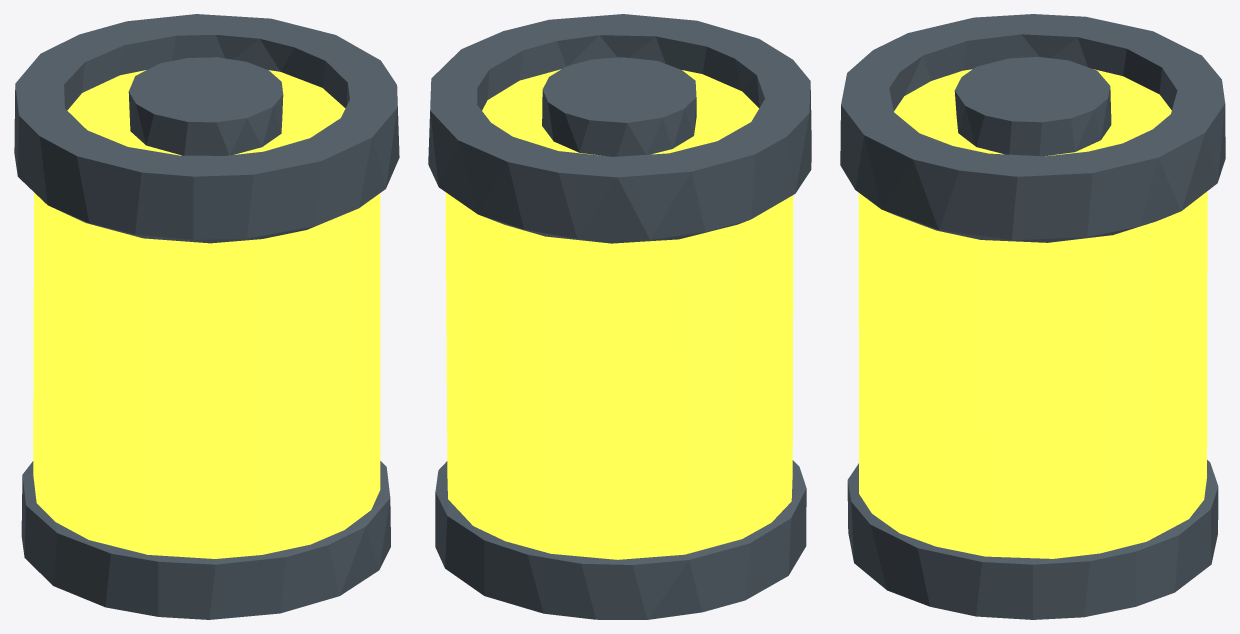
File: denchi.fbx
3 views of the same model, side by side, from view 1: azimuth 30°, elevation 25°; view 2: azimuth 150°, elevation 25°; view 3: azimuth 270°, elevation 25° (orthographic).
Parts seen in each view (by area): view 1: Cylinder.182; view 2: Cylinder.182; view 3: Cylinder.182.
Part boxes in pixels (x1=…): Cylinder.182: x1=14, y1=14, x2=399, y2=619; Cylinder.182: x1=428, y1=14, x2=811, y2=619; Cylinder.182: x1=840, y1=14, x2=1225, y2=619.
Size of the model in its own units: 221 by 286 by 221.
